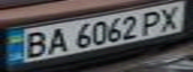0: (90, 18, 112, 46)
2: (118, 12, 145, 41)
6: (72, 20, 93, 50), (106, 16, 127, 44)
A: (42, 25, 72, 55)
B: (18, 29, 51, 60)
P: (136, 8, 169, 36)
X: (154, 3, 187, 32)
